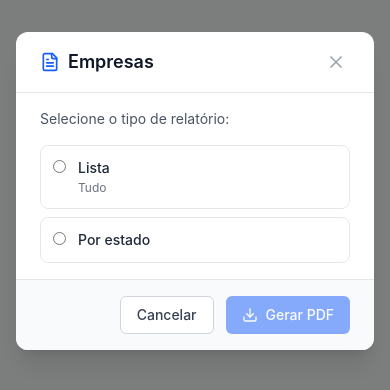
Test: ReportModal › shows error when download fails
Click the radio button showing "full" at {"x": 60, "y": 166}, box [53,160,66,173]
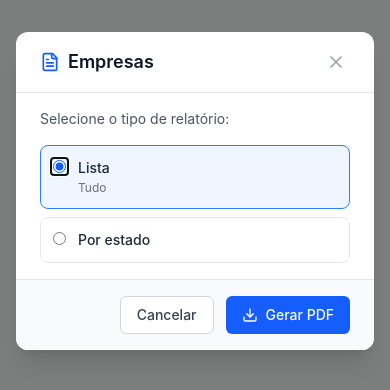
Click the button "Gerar PDF" at {"x": 288, "y": 315}, box [226,296,350,334]
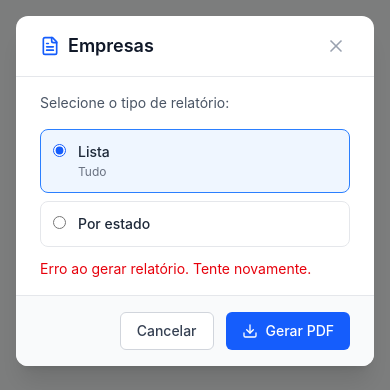
Now the text "Erro ao gerar relatório. Tente novamente." is shown, box [40,259,350,279]
